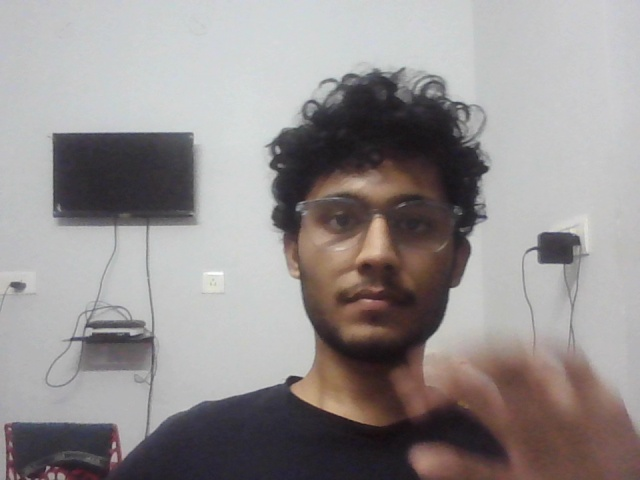Hello: (384, 306, 638, 480)
